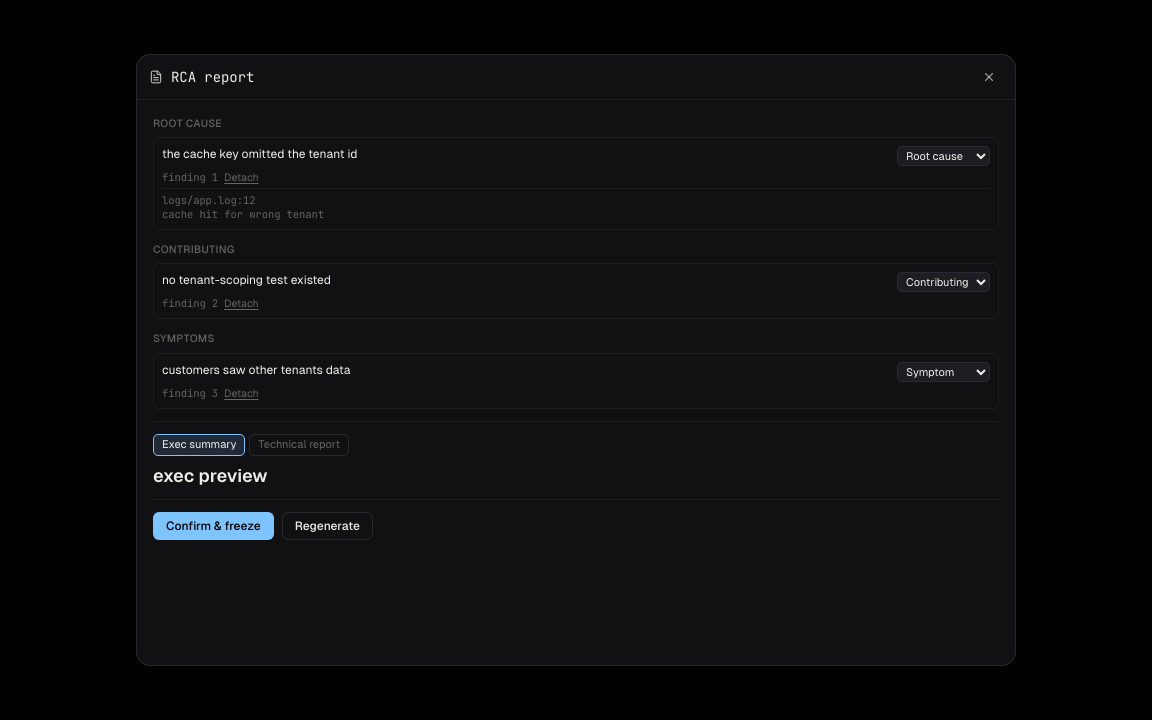
Test case: RcaPanel › confirm rejection renders the error, refetches status, and keeps the panel interactive
Expected: the text "the cache key omitted the tenant id" is shown, [162,147,358,161]
Click the button "Confirm & freeze". click: [213, 526]
box: [153,512,274,540]
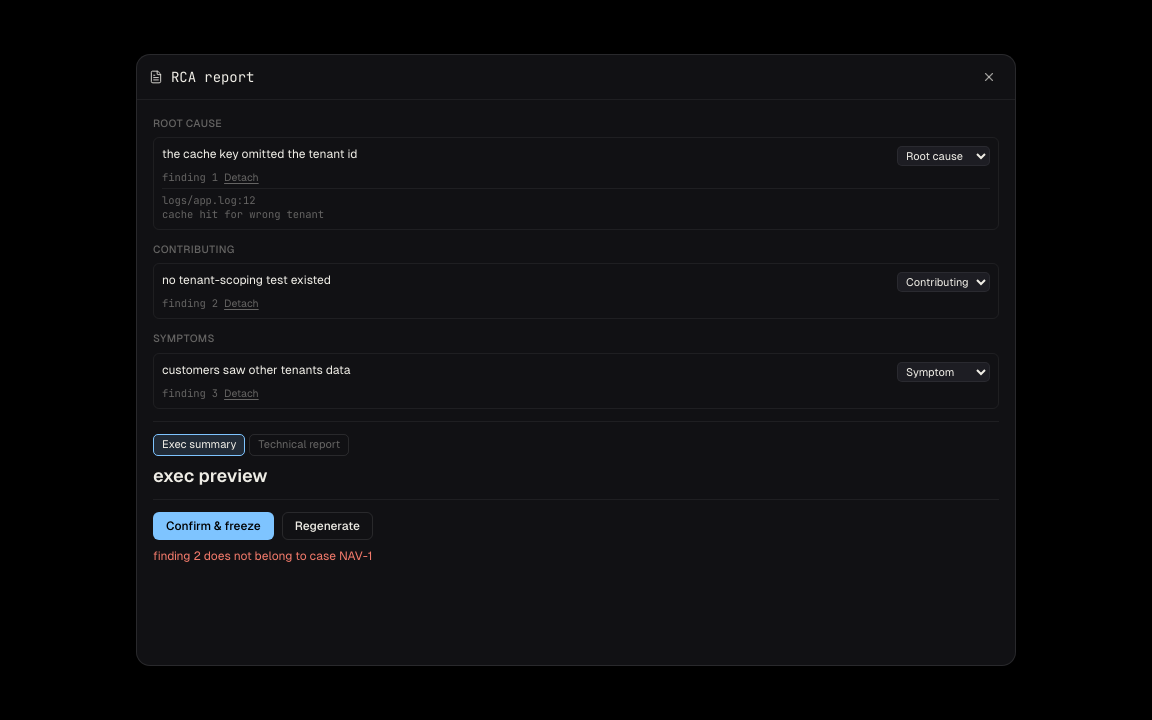
Expected: the text "finding 2 does not belong to case NAV-1" is shown, [153,549,372,563]
